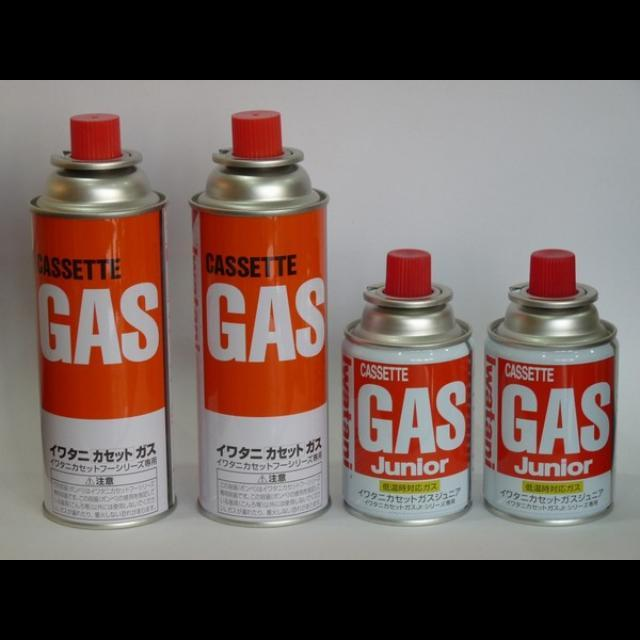chemical_spray_can: (29, 114, 174, 529), (190, 110, 331, 526), (485, 250, 620, 525), (342, 249, 473, 525)
